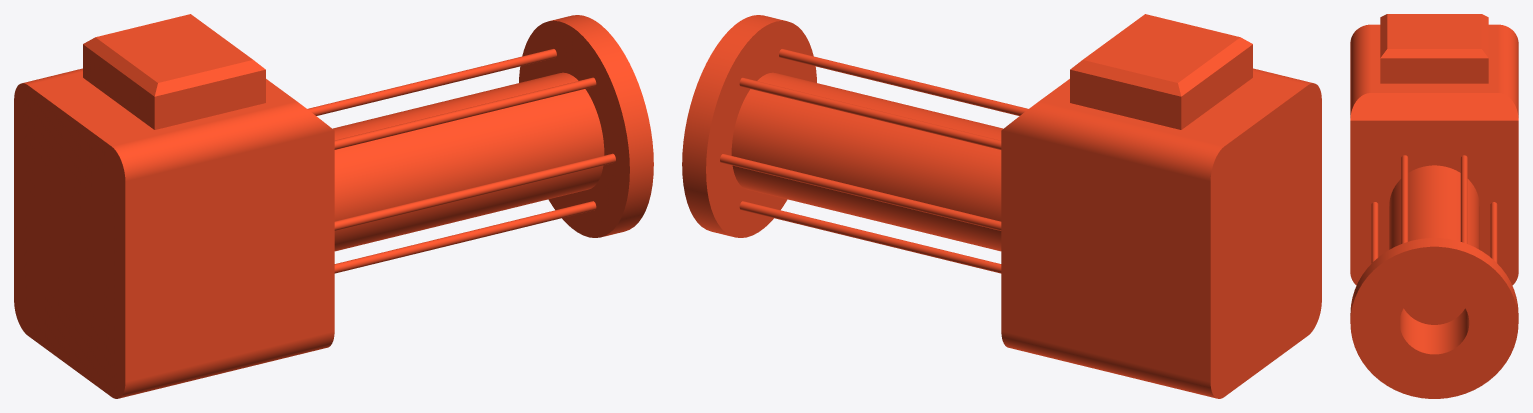
The model's file is part4 - PartBody.obj.
The picture shows the model from 3 angles, left to right: view 1: azimuth 30°, elevation 25°; view 2: azimuth 150°, elevation 25°; view 3: azimuth 270°, elevation 25°; orthographic projection. The views are drawn at different scales.
Parts seen in each view (by area): view 1: mesh21, mesh10, mesh18, mesh4, mesh20, mesh33, mesh3, mesh24, mesh26, mesh14, mesh11, mesh9 (+5 smaller); view 2: mesh16, mesh10, mesh18, mesh4, mesh17, mesh33, mesh3, mesh24, mesh28, mesh13, mesh7, mesh6 (+5 smaller); view 3: mesh2, mesh12, mesh10, mesh19, mesh33, mesh27, mesh24, mesh1, mesh3, mesh17, mesh20, mesh0 (+7 smaller).
Part boxes in pixels (x1=…): mesh21: x1=125, y1=130, x2=334, y2=381; mesh10: x1=332, y1=72, x2=604, y2=251; mesh18: x1=14, y1=83, x2=125, y2=398; mesh4: x1=519, y1=20, x2=629, y2=237; mesh20: x1=112, y1=101, x2=334, y2=181; mesh33: x1=95, y1=14, x2=252, y2=82; mesh3: x1=549, y1=15, x2=653, y2=236; mesh24: x1=28, y1=72, x2=296, y2=146; mesh26: x1=154, y1=69, x2=265, y2=129; mesh14: x1=119, y1=331, x2=334, y2=398; mesh11: x1=334, y1=153, x2=615, y2=230; mesh9: x1=334, y1=201, x2=596, y2=273; mesh16: x1=1001, y1=130, x2=1210, y2=381; mesh10: x1=731, y1=72, x2=1003, y2=251; mesh18: x1=1210, y1=83, x2=1321, y2=398; mesh4: x1=706, y1=20, x2=816, y2=237; mesh17: x1=1001, y1=101, x2=1223, y2=181; mesh33: x1=1083, y1=14, x2=1240, y2=82; mesh3: x1=682, y1=15, x2=786, y2=236; mesh24: x1=1039, y1=72, x2=1307, y2=146; mesh28: x1=1070, y1=69, x2=1181, y2=129; mesh13: x1=1001, y1=331, x2=1216, y2=398; mesh7: x1=720, y1=154, x2=1001, y2=230; mesh6: x1=739, y1=77, x2=1001, y2=149; mesh2: x1=1350, y1=246, x2=1518, y2=398; mesh12: x1=1350, y1=120, x2=1518, y2=285; mesh10: x1=1389, y1=165, x2=1479, y2=249; mesh19: x1=1350, y1=93, x2=1518, y2=120; mesh33: x1=1387, y1=14, x2=1481, y2=48; mesh27: x1=1380, y1=58, x2=1488, y2=83; mesh24: x1=1371, y1=24, x2=1497, y2=92; mesh1: x1=1399, y1=308, x2=1469, y2=354; mesh3: x1=1350, y1=238, x2=1518, y2=321; mesh17: x1=1497, y1=24, x2=1518, y2=117; mesh20: x1=1350, y1=24, x2=1371, y2=117; mesh0: x1=1404, y1=291, x2=1464, y2=324.
Size of the model in its own units: 0.0662 by 0.035 by 0.0242.
